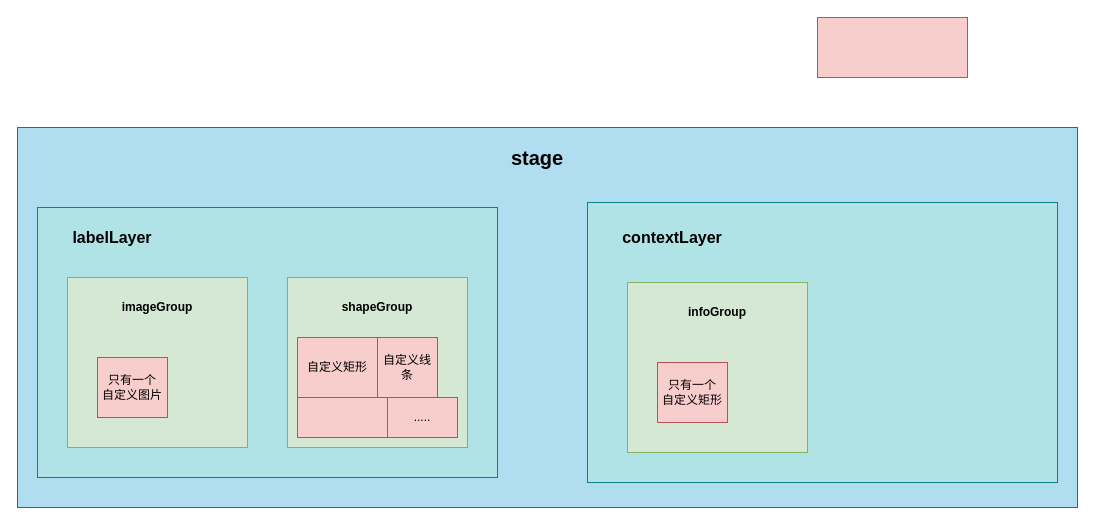
This 1095x525 diagram has some shape labels left out. Here are the shapes that lost their labels. From the top down, the centre of each, then its label:
pixel 892 47: 图形右键操作按钮 （外部项目实现）
pixel 342 417: 自定义多边形组
